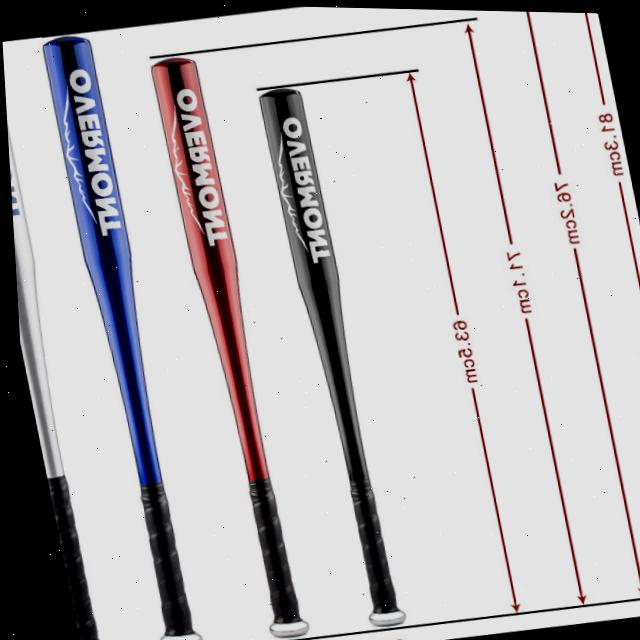baseball bat: (238, 66, 410, 631)
